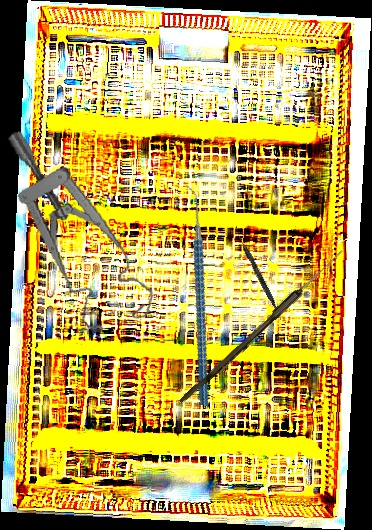Chopper: (120, 181, 270, 407)
Spatula Surgical: (230, 225, 286, 321)
Speculum: (6, 115, 158, 342)
Surgical Spoon: (178, 246, 346, 408)
